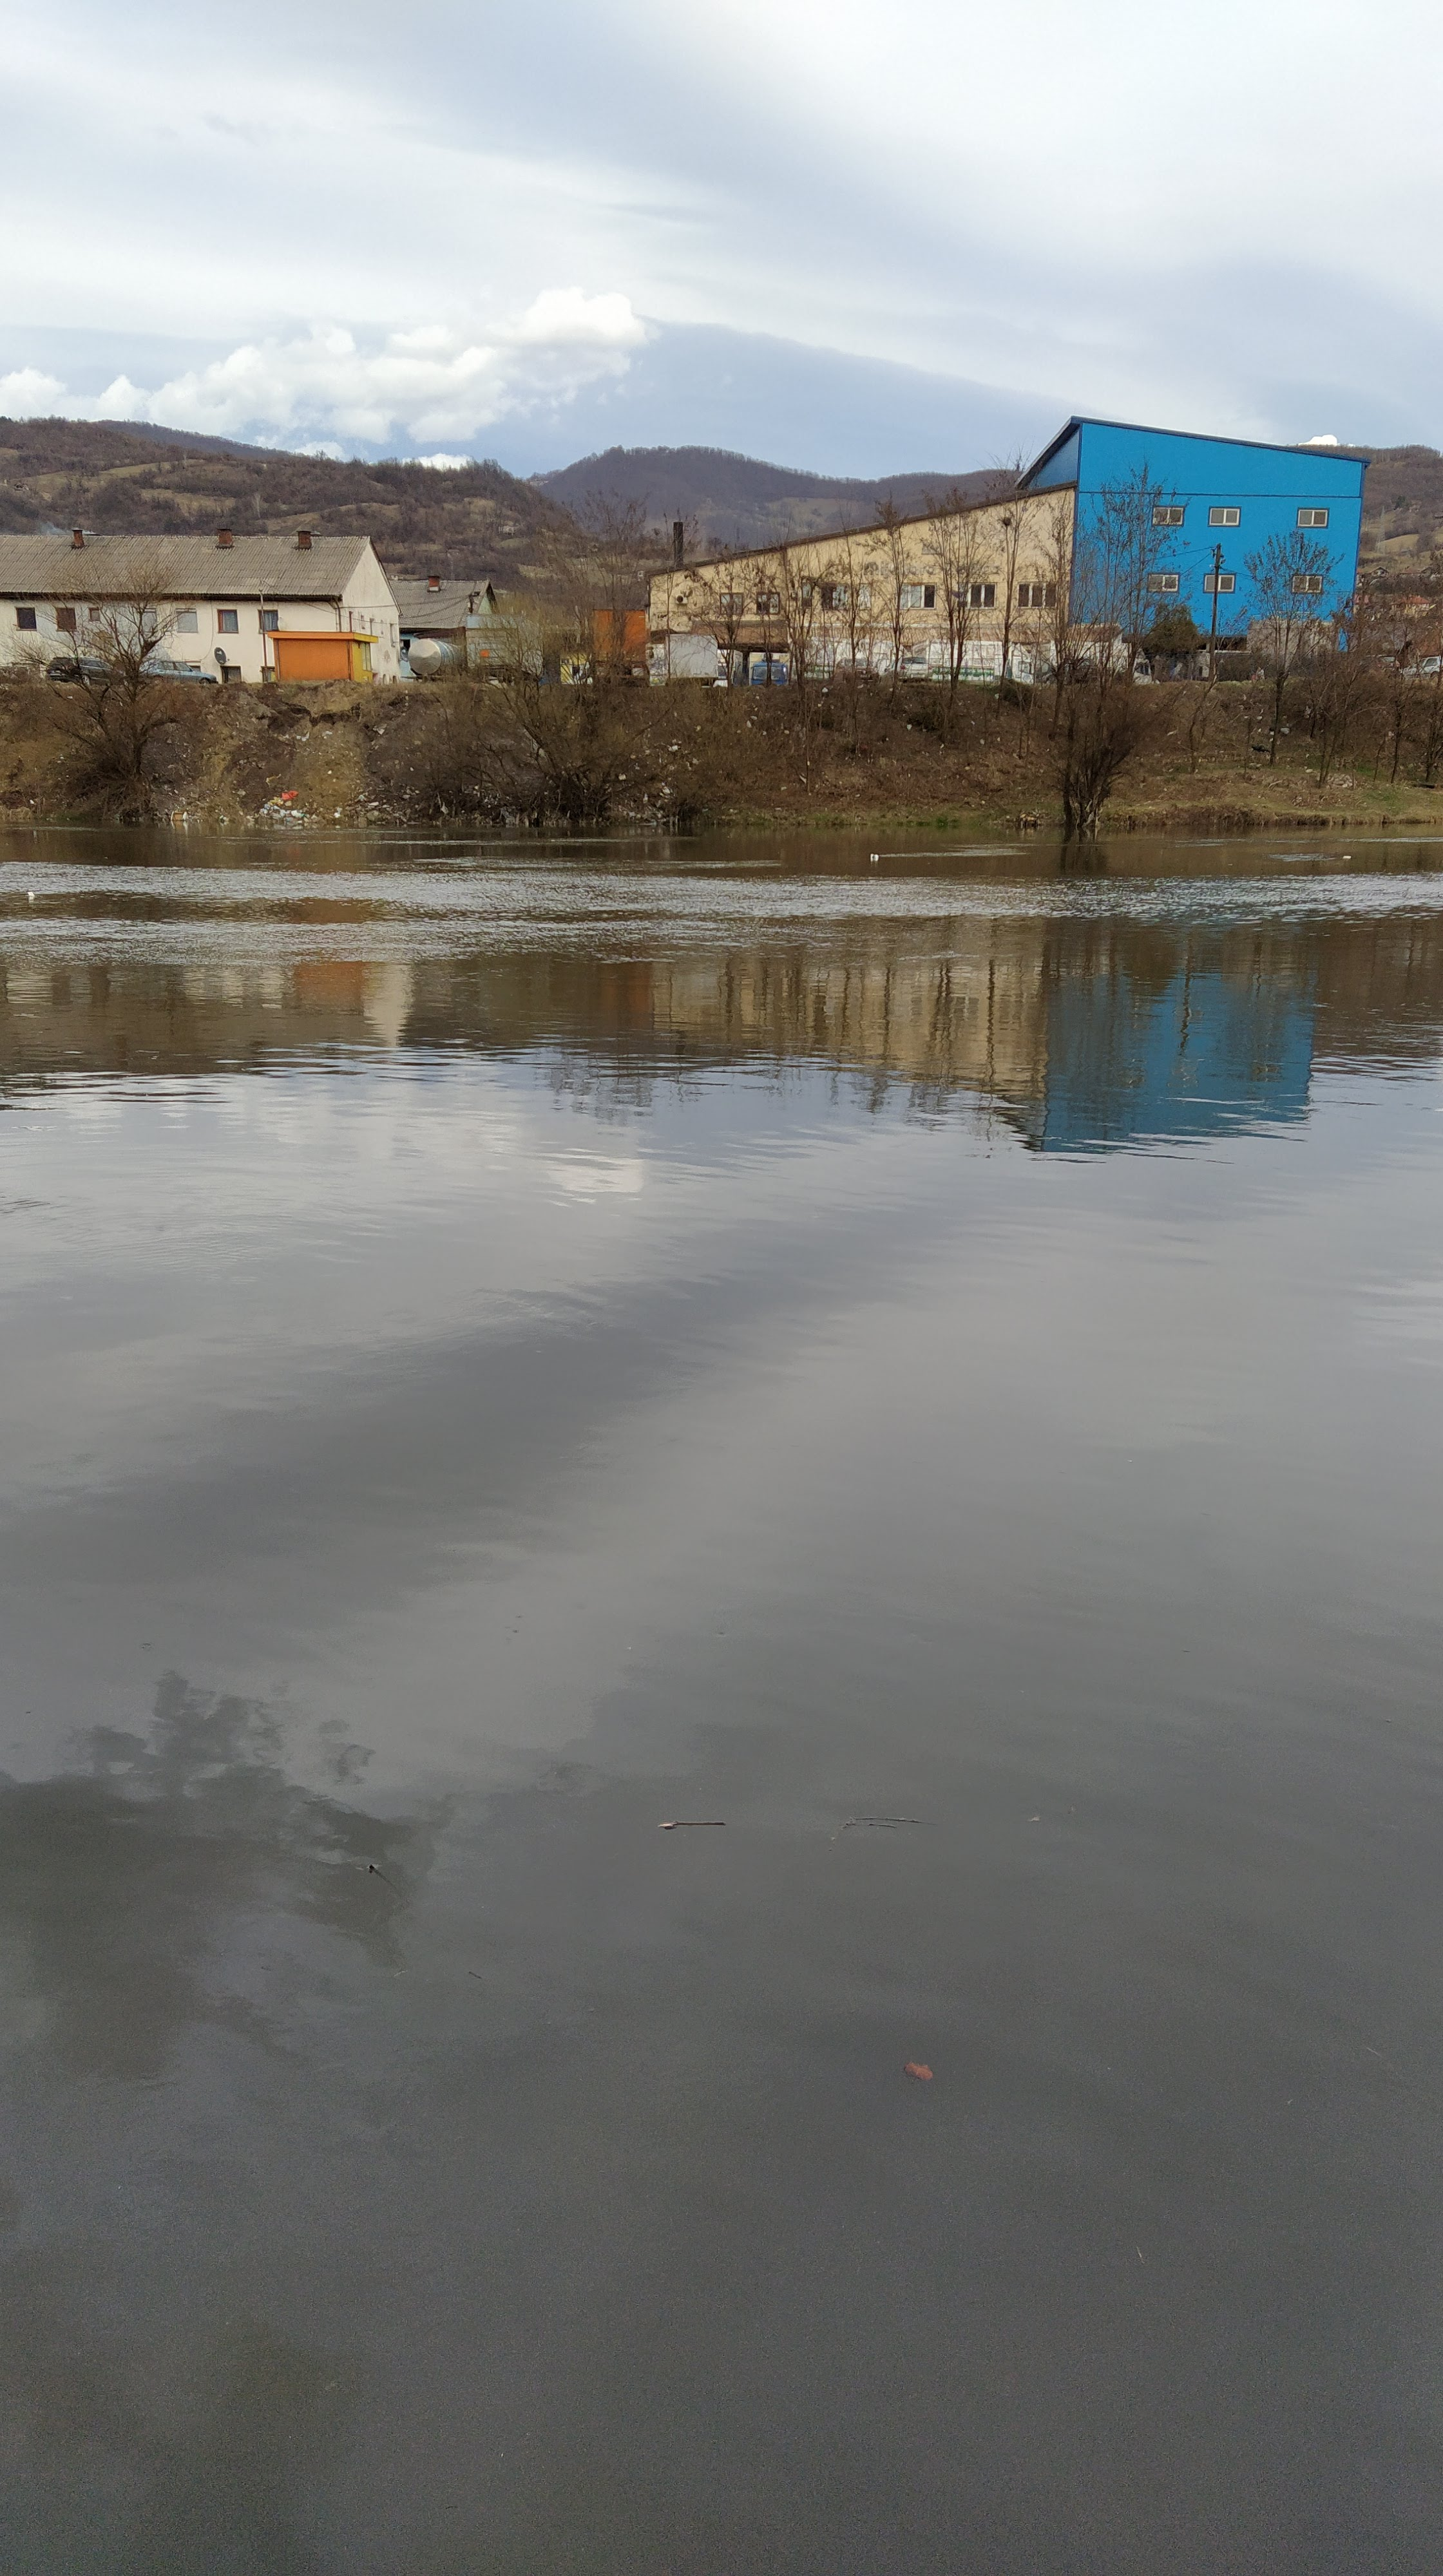Plastic Bottle: (869, 853, 878, 860), (28, 892, 34, 899), (1344, 855, 1351, 858)
